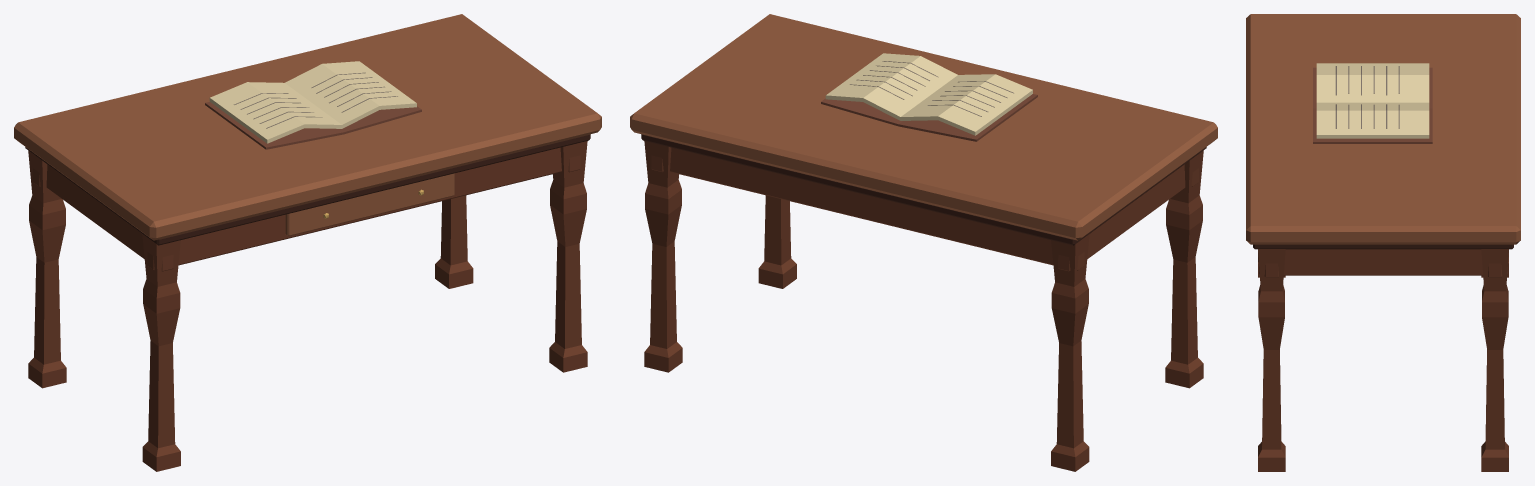
Rendered from table_11.glb.
3 renders of one model, left to right at view 1: azimuth 30°, elevation 25°; view 2: azimuth 150°, elevation 25°; view 3: azimuth 270°, elevation 25°, orthographic. The views are drawn at different scales.
Parts seen in each view (by area): view 1: Top, mainb1_u01_Inventory_ledger, Aprons, Leg_0_0, Leg_1_0, Leg_0_1, FrontDrawer, TopUndercut, Leg_1_1; view 2: Top, Aprons, mainb1_u01_Inventory_ledger, Leg_0_1, Leg_1_1, Leg_0_0, TopUndercut, Leg_1_0; view 3: Top, mainb1_u01_Inventory_ledger, Aprons, Leg_1_0, Leg_1_1, TopUndercut.
Boxes of the visible parts, left/top/right/bottom form: Top: left=14, top=14, right=601, bottom=240; mainb1_u01_Inventory_ledger: left=205, top=61, right=421, bottom=149; Aprons: left=33, top=147, right=580, bottom=271; Leg_0_0: left=142, top=234, right=180, bottom=471; Leg_1_0: left=549, top=141, right=587, bottom=372; Leg_0_1: left=28, top=150, right=66, bottom=388; FrontDrawer: left=285, top=173, right=454, bottom=236; TopUndercut: left=25, top=134, right=590, bottom=245; Leg_1_1: left=435, top=195, right=473, bottom=288; Top: left=630, top=14, right=1217, bottom=240; Aprons: left=651, top=147, right=1198, bottom=271; mainb1_u01_Inventory_ledger: left=821, top=53, right=1037, bottom=141; Leg_0_1: left=1051, top=234, right=1089, bottom=471; Leg_1_1: left=644, top=141, right=682, bottom=372; Leg_0_0: left=1165, top=150, right=1203, bottom=388; TopUndercut: left=641, top=134, right=1206, bottom=245; Leg_1_0: left=758, top=195, right=796, bottom=288; Top: left=1246, top=14, right=1520, bottom=244; mainb1_u01_Inventory_ledger: left=1313, top=63, right=1432, bottom=143; Aprons: left=1259, top=249, right=1507, bottom=277; Leg_1_0: left=1258, top=249, right=1285, bottom=471; Leg_1_1: left=1481, top=249, right=1508, bottom=471; TopUndercut: left=1253, top=244, right=1513, bottom=249.
Bounding box in the file's own units: 1.45 × 0.8658 × 0.78.
